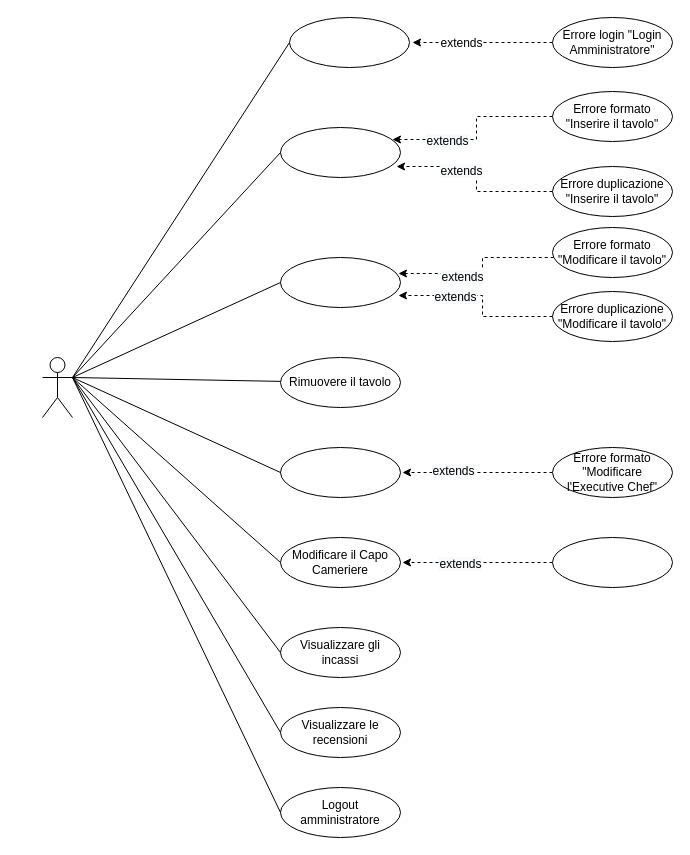
The diagram is 690 pixels wide and 855 high, and some of its shapes have lost their labels. The box of each missing label's shape, as (x1, y1, x2, y2) in pixels:
Amministratore: (42, 356, 72, 418)
Errore formato "Modificare il Capo Cameriere": (552, 536, 672, 588)
Inserire il tavolo: (280, 126, 400, 178)
Login Amministratore: (288, 16, 410, 68)
Modificare il tavolo: (280, 256, 400, 308)
Modificare l'Executive Chef: (280, 446, 400, 498)
